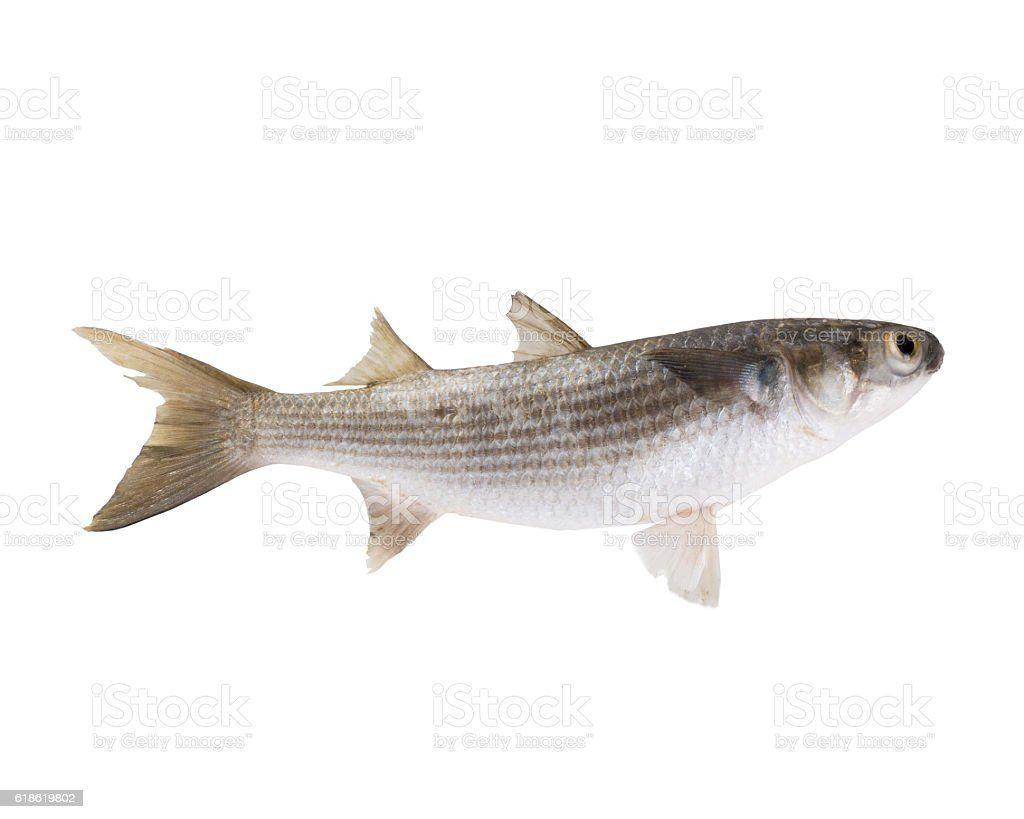Mullet: (69, 284, 950, 618)
